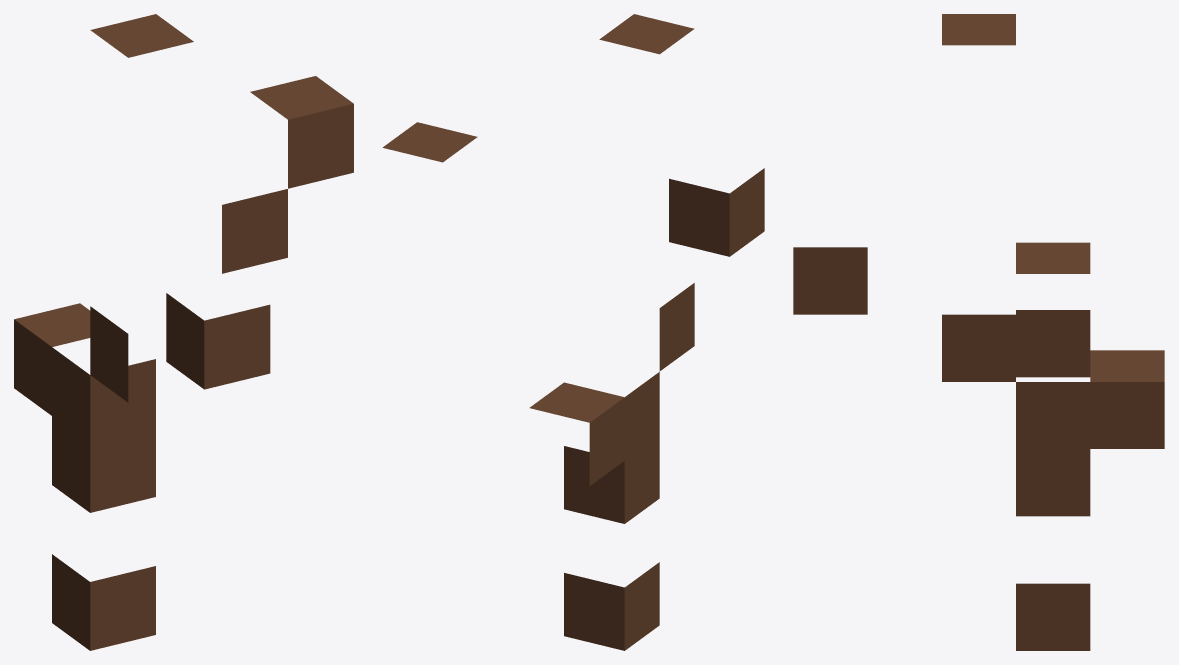
File: tree-cherry-0p9-white-6b452e.gltf
3 views of the same model, side by side, from view 1: azimuth 30°, elevation 25°; view 2: azimuth 150°, elevation 25°; view 3: azimuth 270°, elevation 25° (orthographic). The views are drawn at different scales.
Parts seen in each view (by area): view 1: tree-cherry-0p9-white-6b452e; view 2: tree-cherry-0p9-white-6b452e; view 3: tree-cherry-0p9-white-6b452e.
Part boxes in pixels (x1,y1,x2,y2): tree-cherry-0p9-white-6b452e: [14, 14, 353, 650]; tree-cherry-0p9-white-6b452e: [382, 14, 764, 650]; tree-cherry-0p9-white-6b452e: [793, 14, 1164, 650].
Size of the model in its own units: 4 by 9 by 5.
